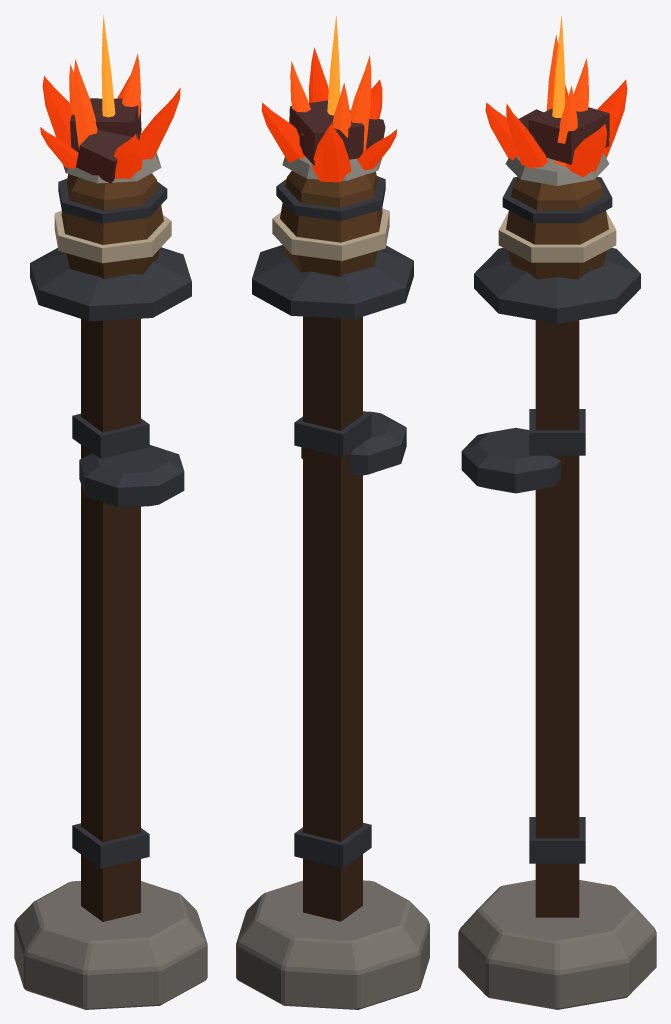
3 views of the same model, side by side, from view 1: azimuth 30°, elevation 25°; view 2: azimuth 150°, elevation 25°; view 3: azimuth 270°, elevation 25° (orthographic).
Visible parts, largest first — view 1: TR-wood_dark, TR-iron, TR-stone_mid, TR-wood_mid, TR-flame_out, TR-coal, TR-cloth_cream, TR-ember, TR-flame_in, TR-ash; view 2: TR-wood_dark, TR-stone_mid, TR-iron, TR-wood_mid, TR-flame_out, TR-coal, TR-cloth_cream, TR-ember, TR-ash, TR-flame_in; view 3: TR-wood_dark, TR-stone_mid, TR-iron, TR-wood_mid, TR-flame_out, TR-coal, TR-cloth_cream, TR-ember, TR-ash, TR-flame_in.
Boxes of the visible parts, x1=… form: TR-wood_dark: x1=81, y1=318, x2=140, y2=921; TR-iron: x1=30, y1=178, x2=191, y2=868; TR-stone_mid: x1=14, y1=881, x2=207, y2=1009; TR-wood_mid: x1=61, y1=173, x2=163, y2=279; TR-flame_out: x1=40, y1=75, x2=180, y2=178; TR-coal: x1=70, y1=98, x2=141, y2=183; TR-cloth_cream: x1=54, y1=210, x2=171, y2=263; TR-ember: x1=69, y1=53, x2=140, y2=148; TR-flame_in: x1=101, y1=14, x2=115, y2=117; TR-ash: x1=63, y1=152, x2=161, y2=183; TR-wood_dark: x1=303, y1=316, x2=362, y2=921; TR-stone_mid: x1=236, y1=880, x2=429, y2=1009; TR-iron: x1=252, y1=176, x2=413, y2=868; TR-wood_mid: x1=280, y1=171, x2=382, y2=276; TR-flame_out: x1=261, y1=47, x2=396, y2=182; TR-coal: x1=289, y1=100, x2=385, y2=165; TR-cloth_cream: x1=272, y1=208, x2=389, y2=260; TR-ember: x1=290, y1=55, x2=371, y2=151; TR-ash: x1=282, y1=157, x2=382, y2=180; TR-flame_in: x1=327, y1=16, x2=339, y2=115; TR-wood_dark: x1=535, y1=320, x2=579, y2=917; TR-stone_mid: x1=458, y1=880, x2=656, y2=1009; TR-iron: x1=461, y1=176, x2=640, y2=863; TR-wood_mid: x1=506, y1=177, x2=608, y2=279; TR-flame_out: x1=485, y1=80, x2=627, y2=177; TR-coal: x1=518, y1=107, x2=609, y2=164; TR-cloth_cream: x1=498, y1=211, x2=616, y2=262; TR-ember: x1=546, y1=35, x2=588, y2=166; TR-ash: x1=505, y1=153, x2=609, y2=185; TR-flame_in: x1=552, y1=16, x2=564, y2=117.
Size of the model in its own units: 0.4754 by 2.52 by 0.4754.
